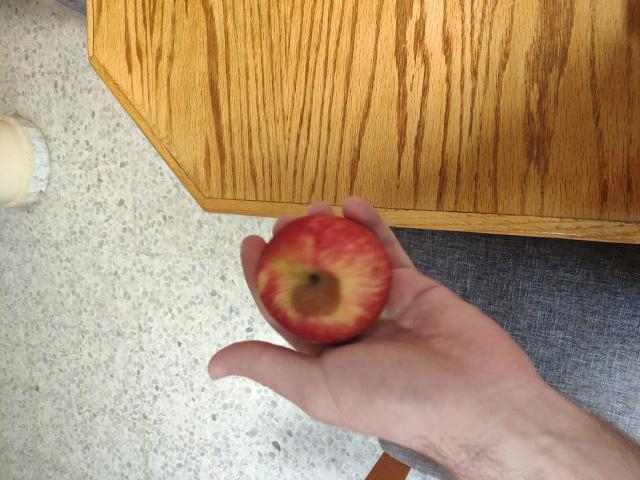apple: (246, 216, 408, 360)
